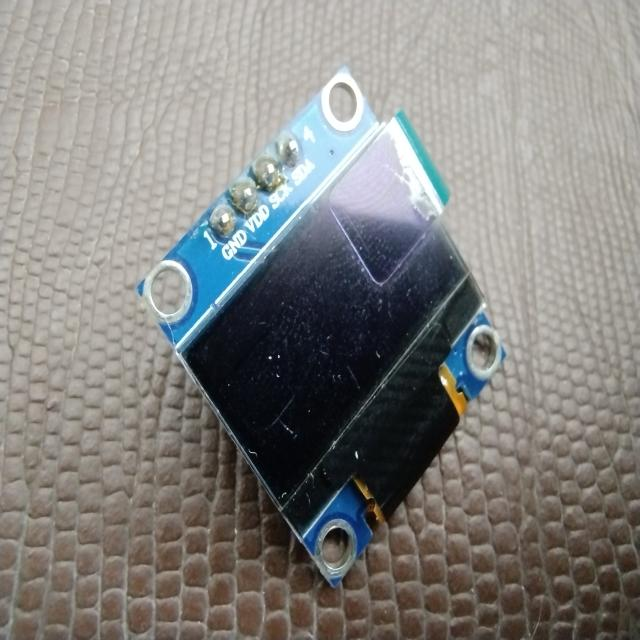oled: (128, 54, 516, 597)
